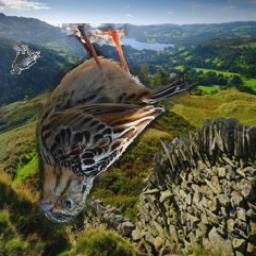Crow: (10, 45, 40, 74)
Sparrow: (29, 23, 203, 232)
